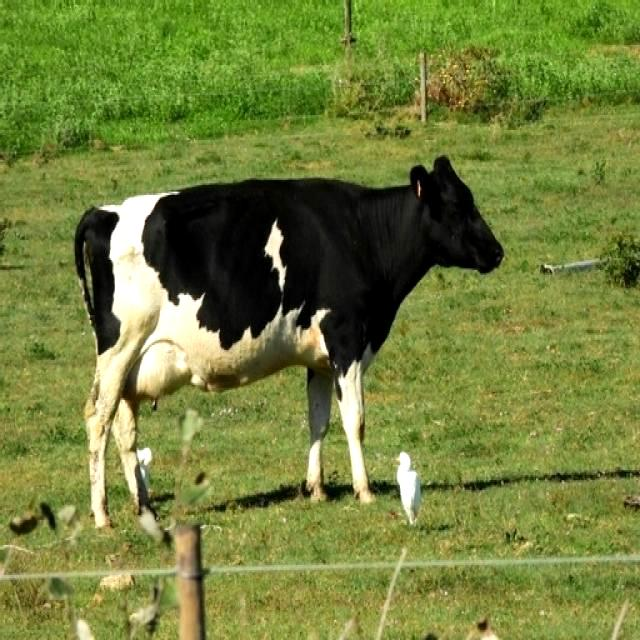COW: (75, 158, 504, 527)
